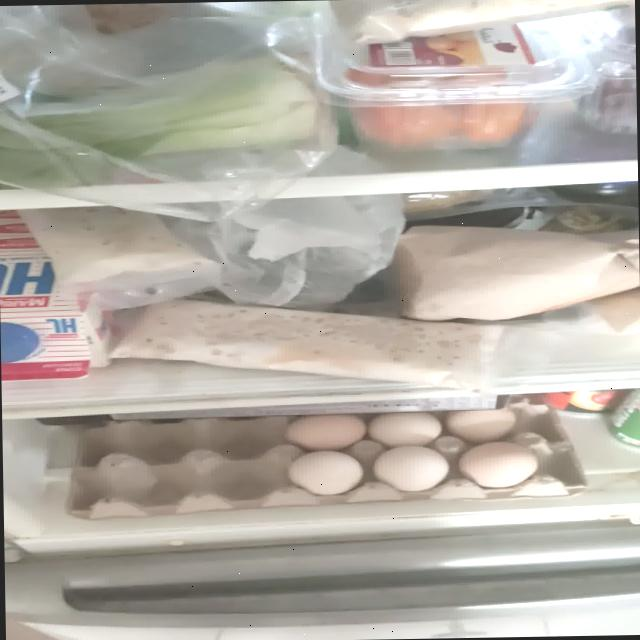egg: (62, 406, 590, 522)
pakchoy: (0, 57, 324, 188)
tempeh: (106, 295, 508, 399), (12, 204, 207, 285)
